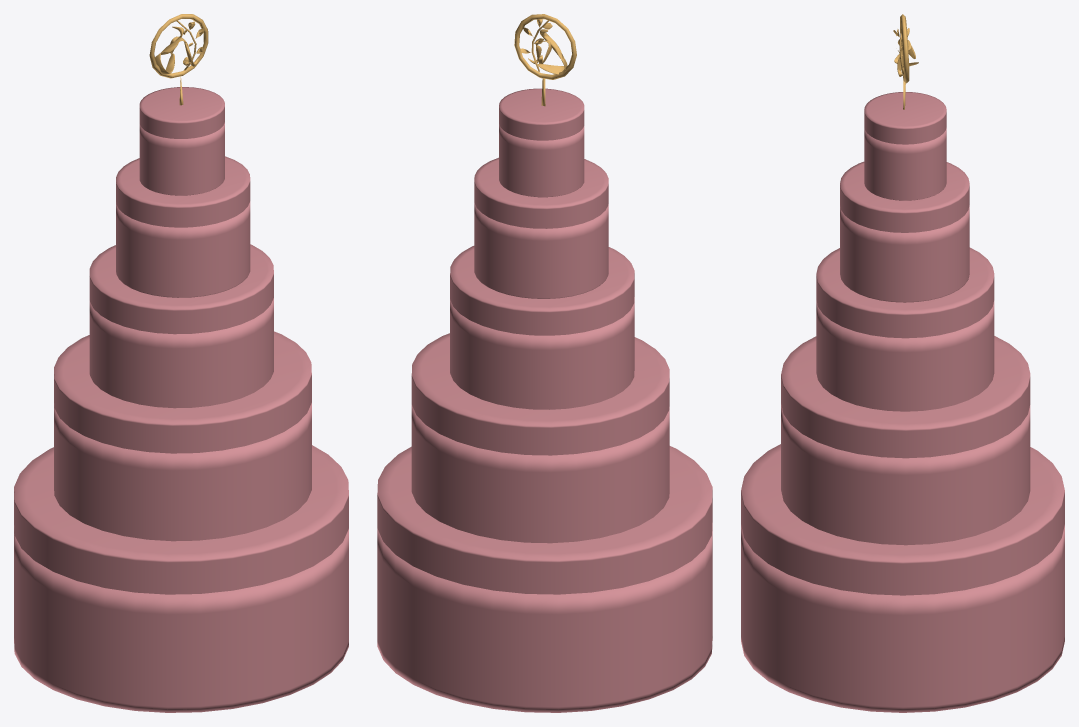
The model's file is 5-tier-blush-none-ring.glb.
3 views of the same model, side by side, from view 1: azimuth 30°, elevation 25°; view 2: azimuth 150°, elevation 25°; view 3: azimuth 270°, elevation 25° (orthographic).
Parts seen in each view (by area): view 1: 3.004, 3.003, 3.002, 2.001, 1.001, Cylinder.005; view 2: 3.004, 3.003, 3.002, 2.001, 1.001, Cylinder.005; view 3: 3.004, 3.003, 3.002, 2.001, 1.001, Cylinder.005.
Part boxes in pixels (<box>): 3.004: <box>14,445,348,712</box>; 3.003: <box>54,331,311,541</box>; 3.002: <box>89,244,273,408</box>; 2.001: <box>116,156,250,297</box>; 1.001: <box>139,87,224,195</box>; Cylinder.005: <box>149,14,208,105</box>; 3.004: <box>377,446,712,712</box>; 3.003: <box>411,333,669,543</box>; 3.002: <box>450,246,634,409</box>; 2.001: <box>474,157,608,298</box>; 1.001: <box>499,88,584,197</box>; Cylinder.005: <box>514,14,576,106</box>; 3.004: <box>741,444,1064,712</box>; 3.003: <box>781,336,1030,545</box>; 3.002: <box>816,247,994,411</box>; 2.001: <box>840,161,969,302</box>; 1.001: <box>864,92,946,200</box>; Cylinder.005: <box>893,14,918,109</box>.
Size of the model in its own units: 5.75 by 11.77 by 5.54.
